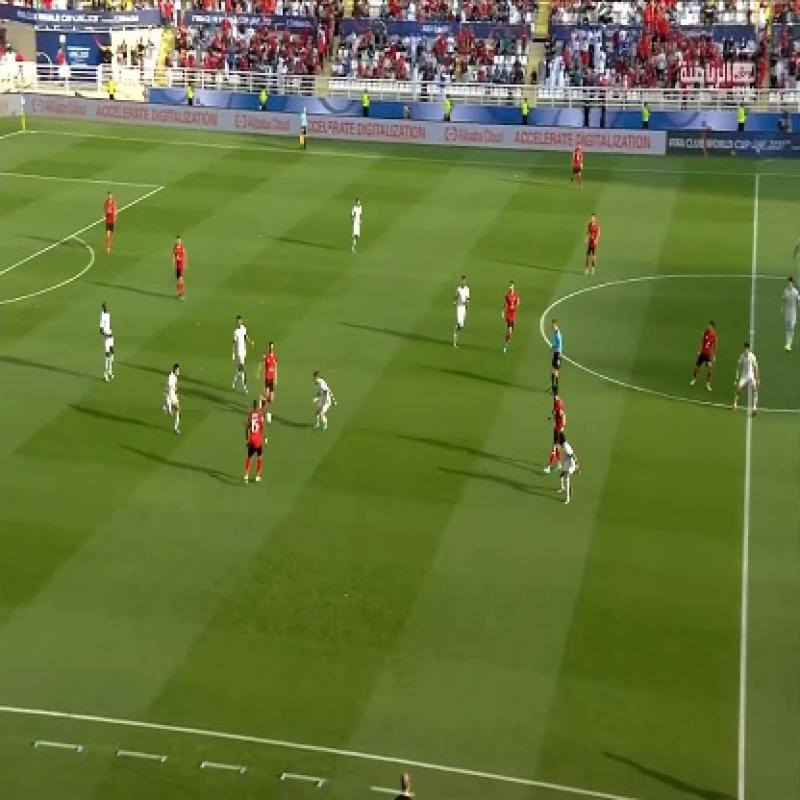1: (14, 120, 32, 134)
10: (62, 223, 80, 244)
13: (748, 160, 766, 184)
14: (742, 260, 764, 286)
15: (738, 390, 764, 422)
9: (152, 175, 170, 196)
c: (531, 305, 555, 333)
